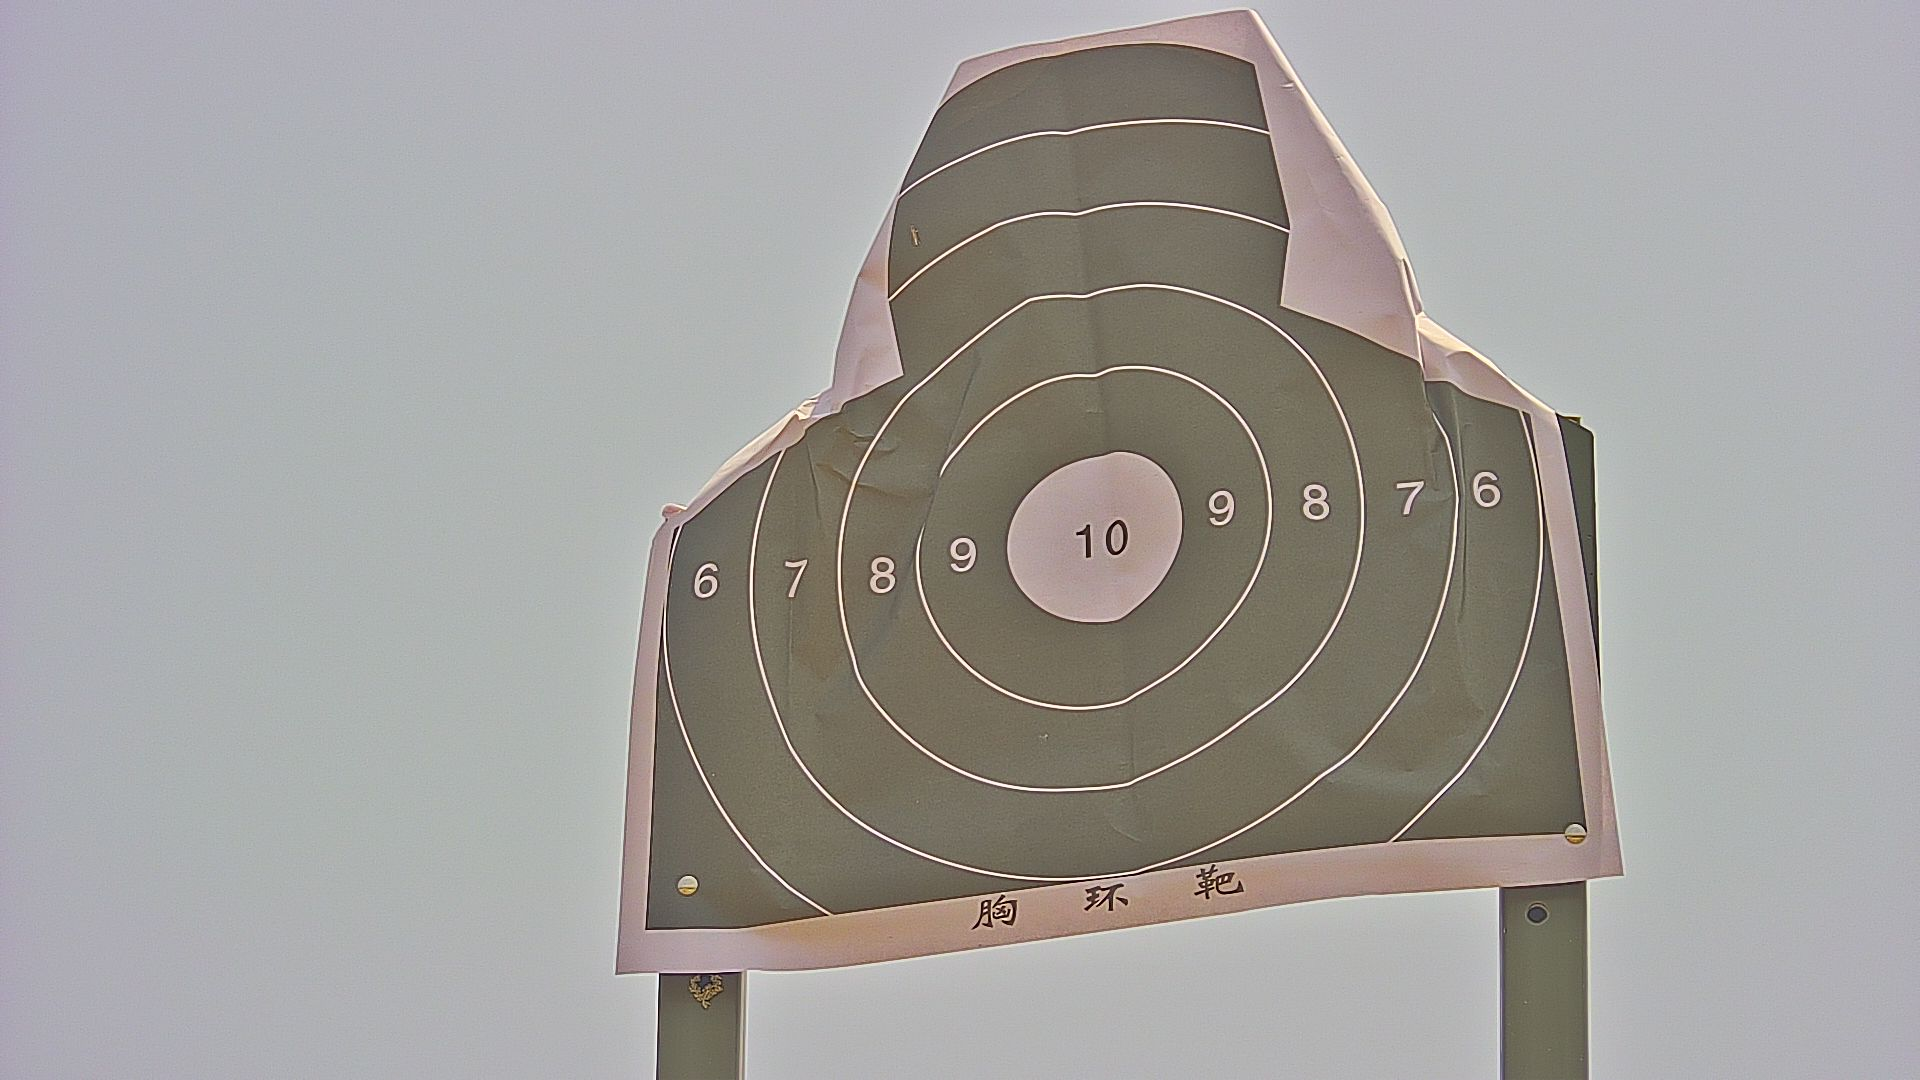kernel: (1098, 539, 1101, 543)
target: (644, 44, 1590, 930)
ten: (1004, 451, 1182, 624)
